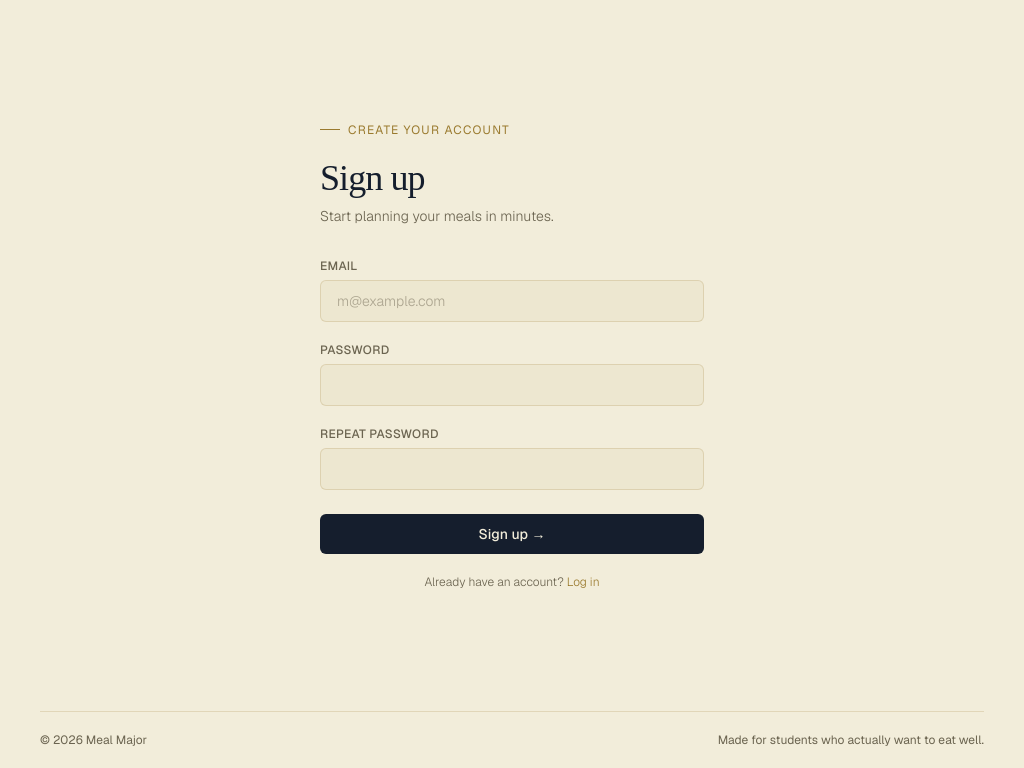
Scenario: SignUpForm › displays error message on failed registration
In the field labelled "Email": (512, 300) [320, 280, 704, 322], type "taken@example.com"
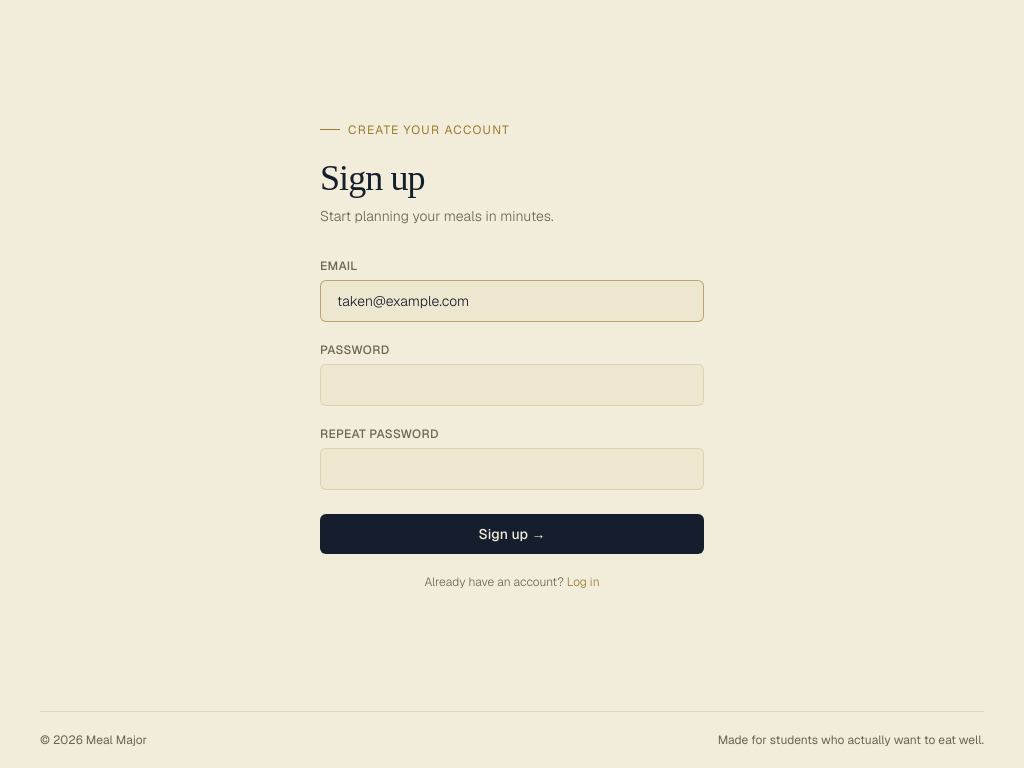
In the password field labelled "Password": (512, 384) [320, 364, 704, 406], type "password123"
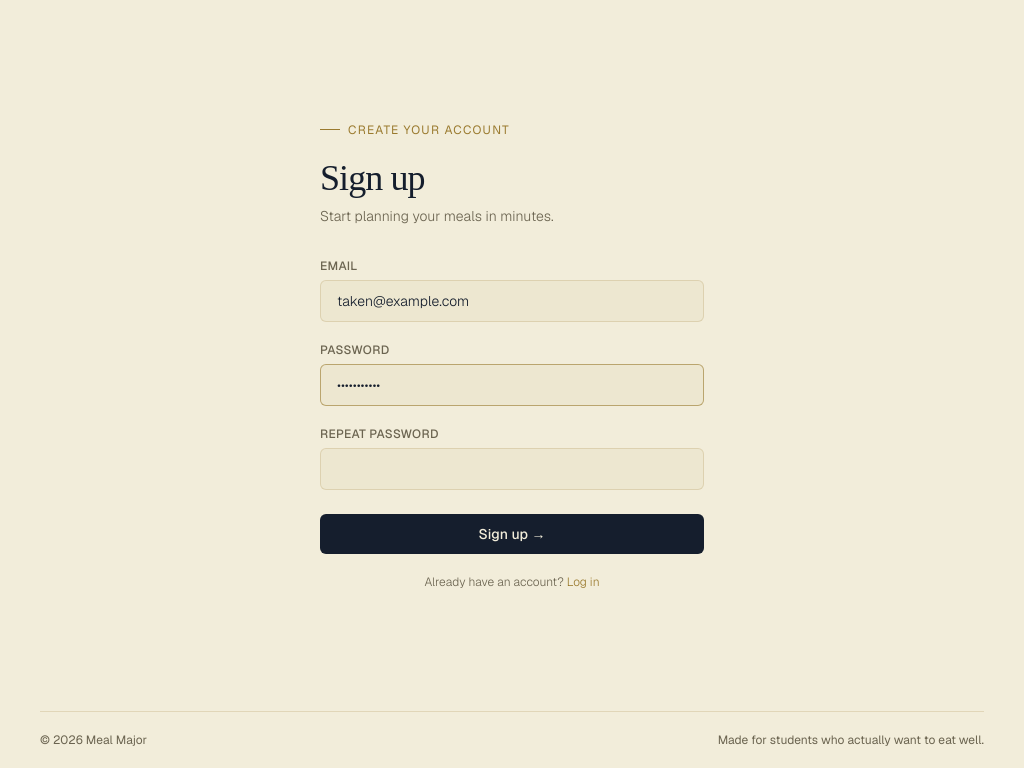
In the password field labelled "Repeat Password": (512, 468) [320, 448, 704, 490], type "password123"
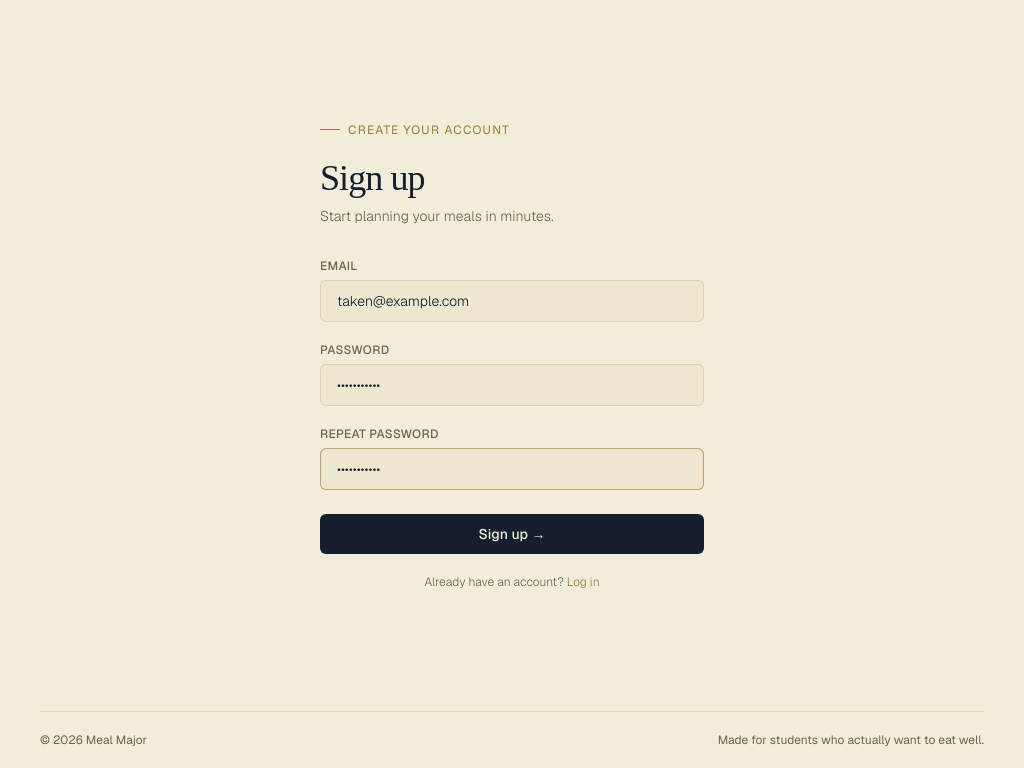
Click the button "Sign up →": (512, 534) [320, 514, 704, 554]
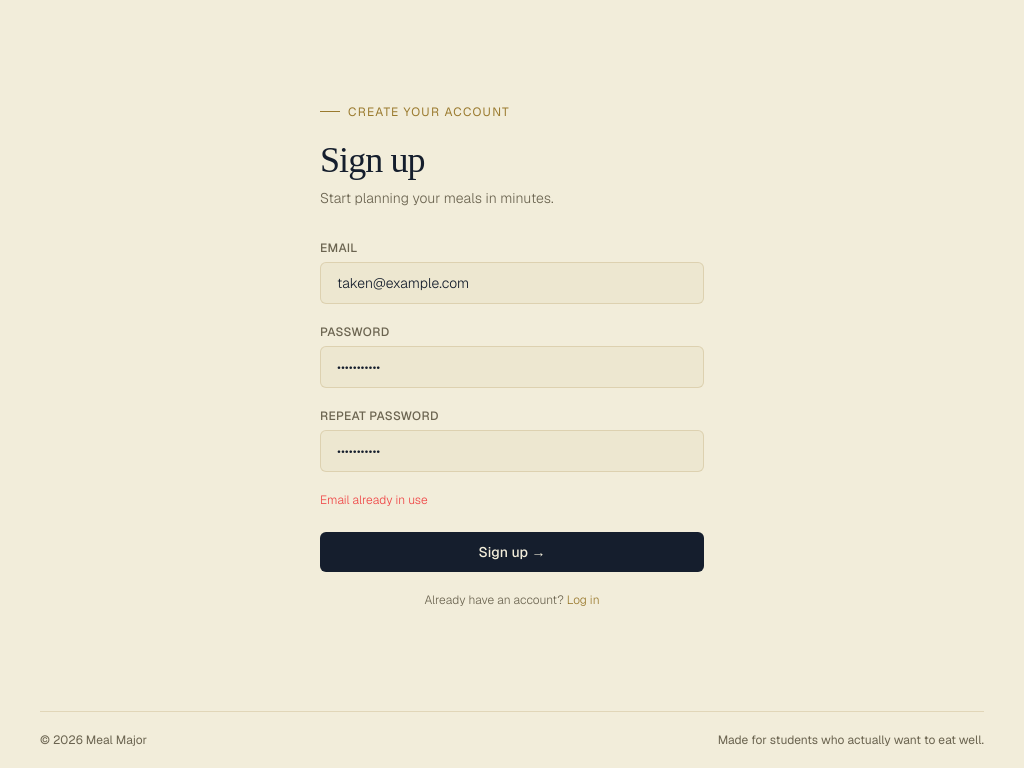
expect the text "Email already in use" is shown: met, box [320, 492, 428, 508]
